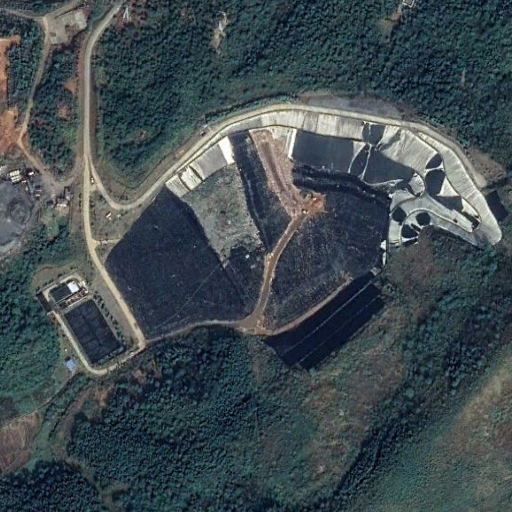lf: (101, 104, 503, 338)
